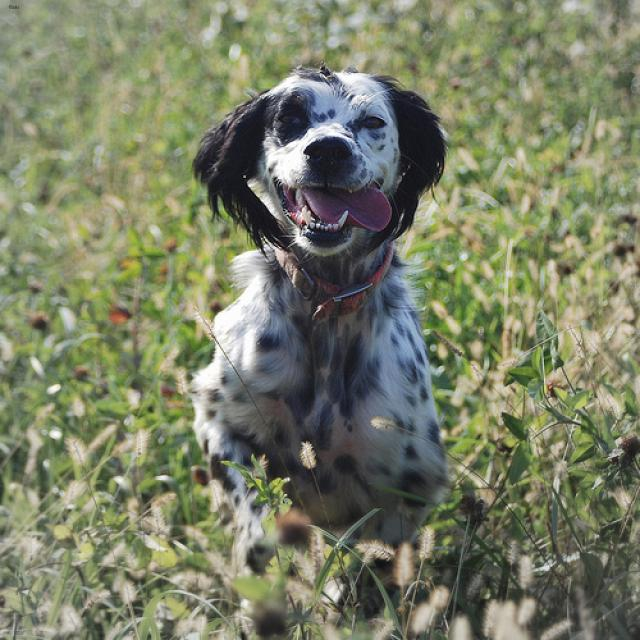dog-english_setter: (175, 54, 466, 637)
